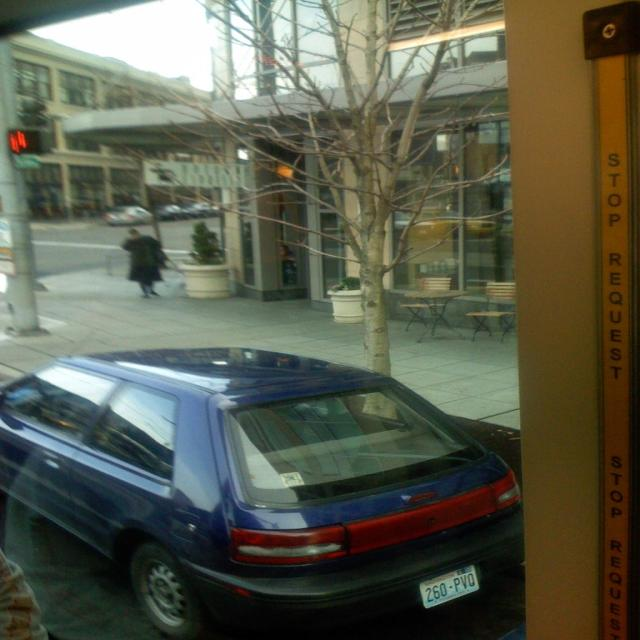car: (102, 205, 153, 233)
